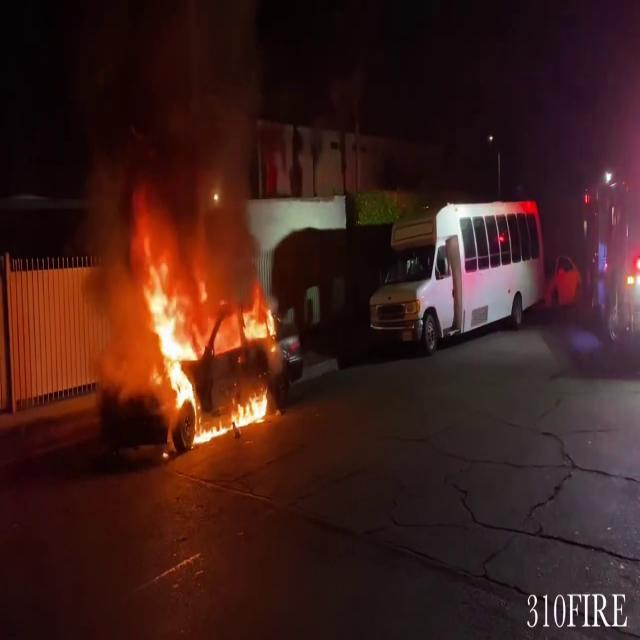Fire: (136, 258, 276, 448)
Smoke: (72, 0, 270, 296)
